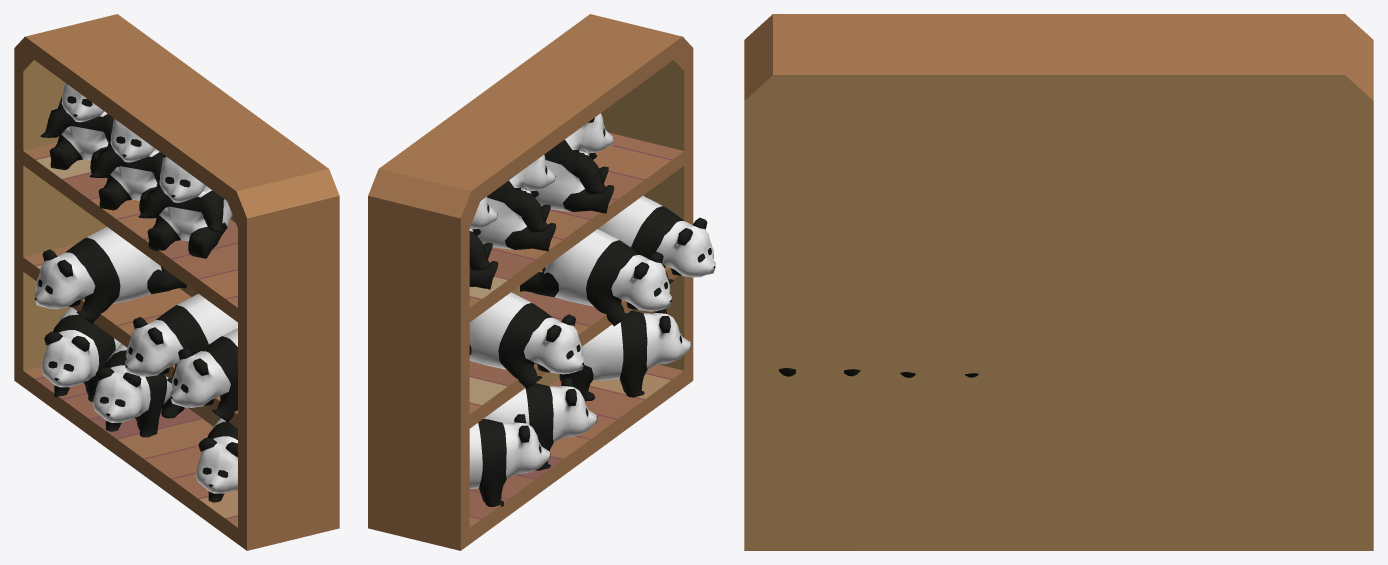
Rendered from RakBoneka.fbx.
The picture shows the model from 3 angles, left to right: view 1: azimuth 30°, elevation 25°; view 2: azimuth 150°, elevation 25°; view 3: azimuth 270°, elevation 25°; orthographic projection. The views are drawn at different scales.
Visible parts, largest first — view 1: RakBoneka.002, Panda.002, Panda.008, Panda.006, Panda.005, Panda.003, Panda.007, Panda.001, Panda.009, Panda.004; view 2: RakBoneka.002, Panda.006, Panda.002, Panda.004, Panda.007, Panda.008, Panda.003, Panda.001, Panda.005, Panda.009; view 3: RakBoneka.002.
Boxes of the visible parts, left/top/right/bottom form: RakBoneka.002: left=14, top=14, right=339, bottom=550; Panda.002: left=34, top=227, right=186, bottom=323; Panda.008: left=138, top=153, right=232, bottom=258; Panda.006: left=125, top=294, right=237, bottom=383; Panda.005: left=92, top=343, right=184, bottom=437; Panda.003: left=41, top=307, right=120, bottom=401; Panda.007: left=170, top=328, right=237, bottom=421; Panda.001: left=89, top=118, right=162, bottom=218; Panda.009: left=40, top=82, right=113, bottom=177; Panda.004: left=195, top=418, right=237, bottom=502; RakBoneka.002: left=368, top=14, right=693, bottom=550; Panda.006: left=520, top=229, right=671, bottom=326; Panda.002: left=469, top=292, right=584, bottom=388; Panda.004: left=559, top=308, right=691, bottom=401; Panda.007: left=598, top=196, right=715, bottom=283; Panda.008: left=535, top=113, right=614, bottom=213; Panda.003: left=469, top=414, right=550, bottom=506; Panda.001: left=477, top=155, right=556, bottom=251; Panda.005: left=483, top=377, right=597, bottom=470; Panda.009: left=469, top=196, right=498, bottom=289; RakBoneka.002: left=744, top=14, right=1373, bottom=550.
Bounding box in the file's own units: 233 × 536 × 643.
